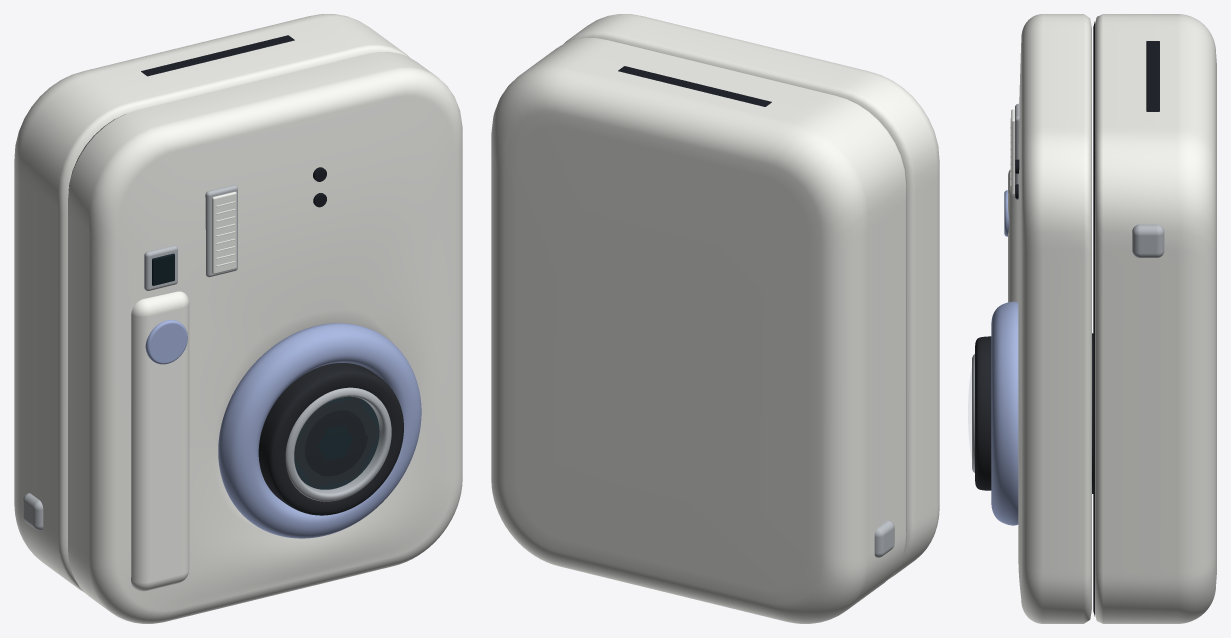
The model's file is rangefinder-camera.glb.
The picture shows the model from 3 angles, left to right: view 1: azimuth 30°, elevation 25°; view 2: azimuth 150°, elevation 25°; view 3: azimuth 270°, elevation 25°; orthographic projection. The views are drawn at different scales.
Visible parts, largest first — view 1: hollow-front-cover-with-optical-aperture, hollow-pearl-rear-housing, continuous-satin-periwinkle-lens-mount, sculpted-hand-grip, optical-focus-sleeve, machined-optical-retaining-ring, curved-transparent-optical-window, dark-optical-recess, frosted-flash-diffuser, rounded-front-shutter, film-ejection-slot, flash-surround (+9 smaller); view 2: hollow-pearl-rear-housing, hollow-front-cover-with-optical-aperture, film-ejection-slot, lower-strap-lug; view 3: hollow-pearl-rear-housing, hollow-front-cover-with-optical-aperture, continuous-satin-periwinkle-lens-mount, optical-focus-sleeve, sculpted-hand-grip, precision-cover-gasket, strap-lug, film-ejection-slot.
Boxes of the visible parts, x1,y1,x2,y2 form: hollow-front-cover-with-optical-aperture: (68, 51, 462, 623); hollow-pearl-rear-housing: (14, 14, 409, 592); continuous-satin-periwinkle-lens-mount: (218, 323, 421, 538); sculpted-hand-grip: (131, 291, 189, 591); optical-focus-sleeve: (258, 363, 403, 515); machined-optical-retaining-ring: (285, 387, 391, 501); curved-transparent-optical-window: (295, 397, 381, 490); dark-optical-recess: (294, 396, 379, 489); frosted-flash-diffuser: (212, 191, 236, 274); rounded-front-shutter: (145, 320, 187, 364); film-ejection-slot: (141, 35, 294, 76); flash-surround: (205, 184, 237, 277); hollow-pearl-rear-housing: (491, 38, 906, 623); hollow-front-cover-with-optical-aperture: (564, 14, 939, 578); film-ejection-slot: (618, 66, 771, 106); lower-strap-lug: (874, 520, 894, 557); hollow-pearl-rear-housing: (1095, 14, 1216, 623); hollow-front-cover-with-optical-aperture: (1018, 14, 1091, 623); continuous-satin-periwinkle-lens-mount: (991, 301, 1018, 525); optical-focus-sleeve: (975, 336, 991, 490); sculpted-hand-grip: (1008, 169, 1018, 302); precision-cover-gasket: (1093, 21, 1094, 616); strap-lug: (1132, 224, 1164, 257); film-ejection-slot: (1146, 41, 1159, 111).
Bounding box in the file's own units: 1.62 × 2 × 0.9299.
